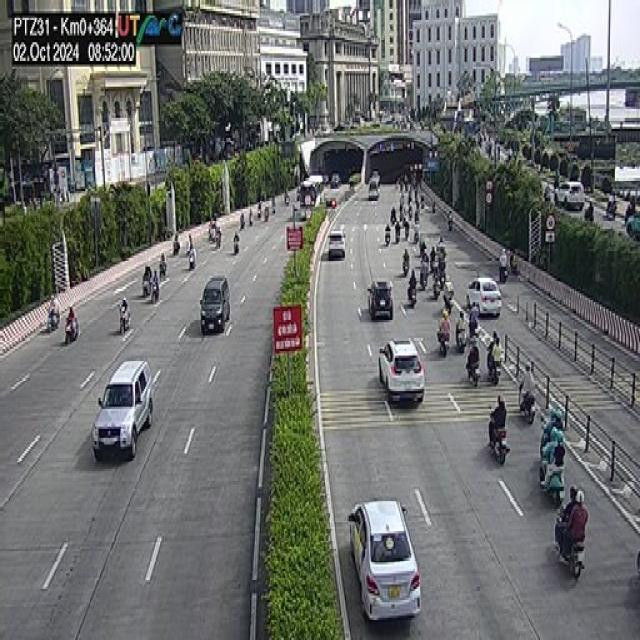bus: (298, 173, 326, 218)
car: (349, 500, 423, 622), (90, 361, 154, 464), (379, 336, 426, 408), (465, 275, 502, 319), (204, 276, 231, 336), (368, 280, 395, 324), (328, 226, 346, 262)
motorcycle: (554, 518, 583, 584), (486, 412, 509, 466), (541, 455, 565, 504), (517, 384, 536, 425), (437, 325, 451, 365), (116, 308, 132, 338), (486, 355, 502, 384), (64, 316, 79, 344), (468, 358, 480, 390), (456, 326, 466, 356), (408, 282, 418, 309), (540, 410, 548, 443), (469, 311, 479, 337), (47, 313, 60, 331), (142, 274, 151, 299), (499, 264, 508, 286), (446, 289, 453, 315), (159, 260, 168, 280), (152, 280, 159, 305), (432, 281, 442, 298), (188, 252, 196, 268), (234, 241, 240, 257), (384, 234, 391, 246), (402, 264, 408, 278)
person: (575, 490, 590, 550), (566, 484, 578, 544), (496, 386, 508, 434), (548, 423, 559, 472), (554, 430, 565, 478), (524, 362, 535, 396), (470, 335, 481, 367), (121, 291, 131, 323), (494, 334, 503, 366), (458, 303, 468, 331), (553, 407, 563, 435), (548, 404, 556, 438), (49, 296, 59, 323), (443, 312, 451, 342), (471, 295, 478, 329), (440, 305, 448, 334), (489, 330, 496, 363), (410, 266, 418, 294), (158, 244, 168, 265), (500, 246, 508, 270), (69, 305, 76, 328), (147, 263, 153, 289), (153, 269, 160, 289), (447, 273, 453, 296), (232, 228, 238, 244), (145, 262, 149, 286), (188, 232, 194, 247), (174, 231, 179, 246), (385, 224, 391, 236), (404, 249, 408, 263)
truck: (369, 170, 381, 201)
